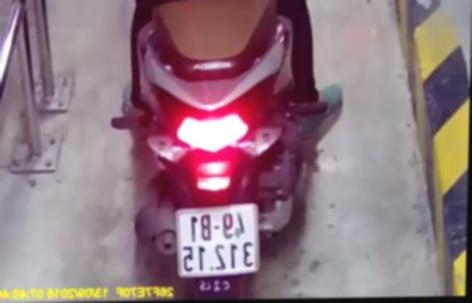License_Plate: (169, 198, 266, 281)
